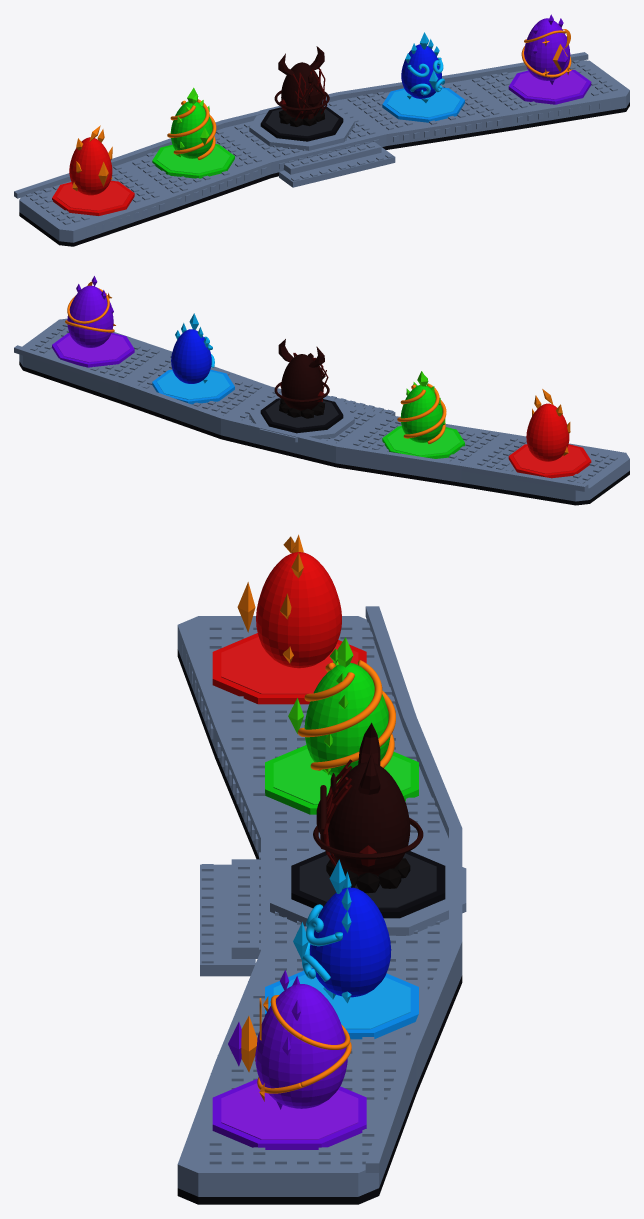
The model's file is egg-stand-with-eggs.glb.
3 renders of one model, top to bottom at view 1: azimuth 30°, elevation 25°; view 2: azimuth 150°, elevation 25°; view 3: azimuth 270°, elevation 25°, orthographic. The views are drawn at different scales.
Parts seen in each view (by area): view 1: Common_Bay.001, Rainbow_Bay.001, Rare_Bay.001, Uncommon_Bay.001, Volcanic_Original.001, Volcanic_Bay.001, Arcane Egg, Fire Egg, Rare_Studs.001, Uncommon_Studs.001, Volcanic_RaisedBay.001, Forest Egg (+26 smaller); view 2: Common_Bay.001, Uncommon_Bay.001, Rare_Bay.001, Volcanic_Original.001, Rainbow_Bay.001, Volcanic_Bay.001, Arcane Egg, Fire Egg, Ice Egg, Forest Egg, Rare_SeatInset.001, Volcanic_RaisedBay.001 (+24 smaller); view 3: Rainbow_Bay.001, Volcanic_Original.001, Arcane Egg, Fire Egg, Uncommon_Bay.001, Common_Bay.001, Ice Egg, Rare_Bay.001, Rainbow_SeatInset.001, Forest Egg, Common_SeatInset.001, Volcanic_Bay.001 (+25 smaller).
Boxes of the visible parts, left/top/right/bottom form: Common_Bay.001: left=19, top=164, right=168, bottom=242; Rainbow_Bay.001: left=465, top=60, right=629, bottom=126; Rare_Bay.001: left=340, top=80, right=511, bottom=145; Uncommon_Bay.001: left=122, top=128, right=271, bottom=209; Volcanic_Original.001: left=274, top=46, right=329, bottom=126; Volcanic_Bay.001: left=225, top=100, right=386, bottom=173; Arcane Egg: left=524, top=18, right=570, bottom=80; Fire Egg: left=69, top=137, right=112, bottom=195; Rare_Studs.001: left=347, top=82, right=502, bottom=142; Uncommon_Studs.001: left=132, top=130, right=266, bottom=204; Volcanic_RaisedBay.001: left=249, top=105, right=354, bottom=150; Forest Egg: left=170, top=101, right=213, bottom=158; Common_Bay.001: left=461, top=434, right=629, bottom=501; Uncommon_Bay.001: left=336, top=414, right=511, bottom=482; Rare_Bay.001: left=118, top=350, right=270, bottom=434; Volcanic_Original.001: left=274, top=339, right=329, bottom=418; Rainbow_Bay.001: left=19, top=318, right=168, bottom=398; Volcanic_Bay.001: left=221, top=386, right=385, bottom=463; Arcane Egg: left=67, top=285, right=113, bottom=347; Fire Egg: left=526, top=403, right=569, bottom=461; Ice Egg: left=171, top=329, right=211, bottom=383; Forest Egg: left=400, top=385, right=443, bottom=442; Rare_SeatInset.001: left=157, top=371, right=229, bottom=399; Volcanic_RaisedBay.001: left=249, top=397, right=354, bottom=442; Rainbow_Bay.001: left=177, top=1062, right=416, bottom=1196; Volcanic_Original.001: left=313, top=722, right=423, bottom=893; Arcane Egg: left=255, top=984, right=347, bottom=1108; Fire Egg: left=256, top=552, right=341, bottom=668; Uncommon_Bay.001: left=215, top=727, right=448, bottom=856; Common_Bay.001: left=177, top=616, right=402, bottom=750; Ice Egg: left=309, top=887, right=391, bottom=997; Rare_Bay.001: left=215, top=950, right=462, bottom=1085; Rainbow_SeatInset.001: left=221, top=1083, right=358, bottom=1139; Forest Egg: left=304, top=663, right=390, bottom=776; Common_SeatInset.001: left=221, top=637, right=358, bottom=694; Volcanic_Bay.001: left=261, top=838, right=448, bottom=950.
Size of the model in its own units: 24.2 by 3.81 by 5.3.
Materials: 20 (20 with a texture image).
